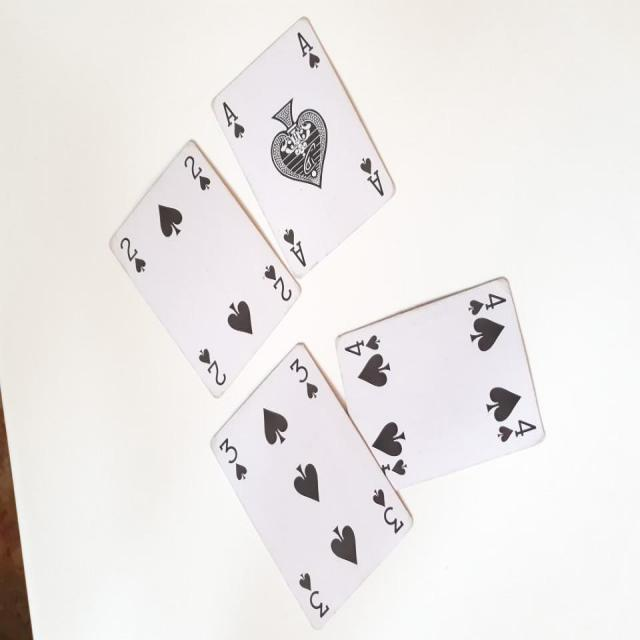2 of spades: (108, 139, 294, 394)
3 of spades: (211, 348, 403, 628)
4 of spades: (337, 280, 556, 476)
ace of spades: (209, 14, 397, 274)
